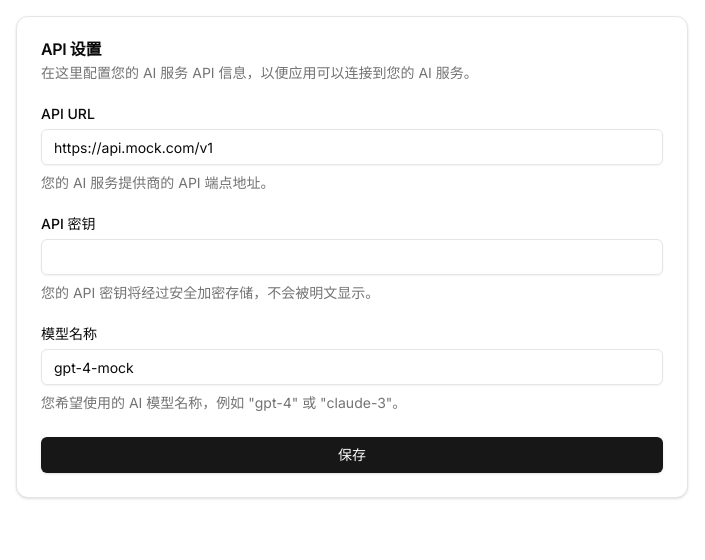
SettingsPage › shows a success message after saving
The width and height of the screenshot is (705, 560).
Replace the text in the field labelled "API URL" with "https://api.test.com/v1" at x=352, y=147, box [41, 129, 663, 165]
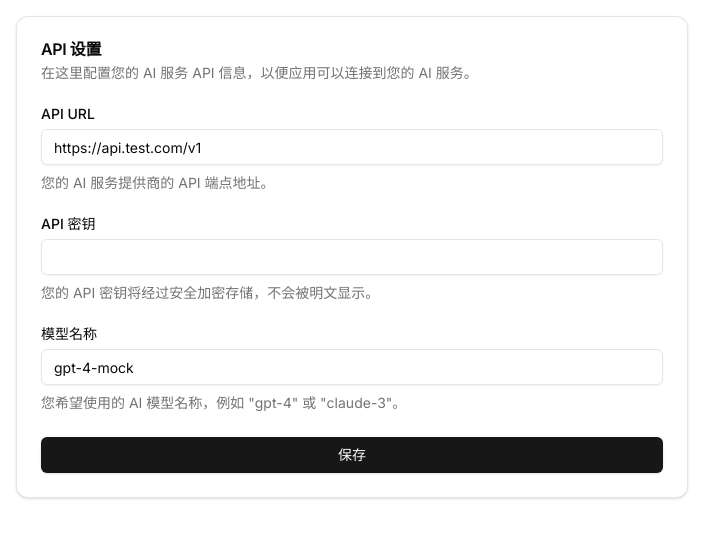
Type "test-api-key" into the password field labelled "API 密钥" at x=352, y=257, box [41, 239, 663, 275]
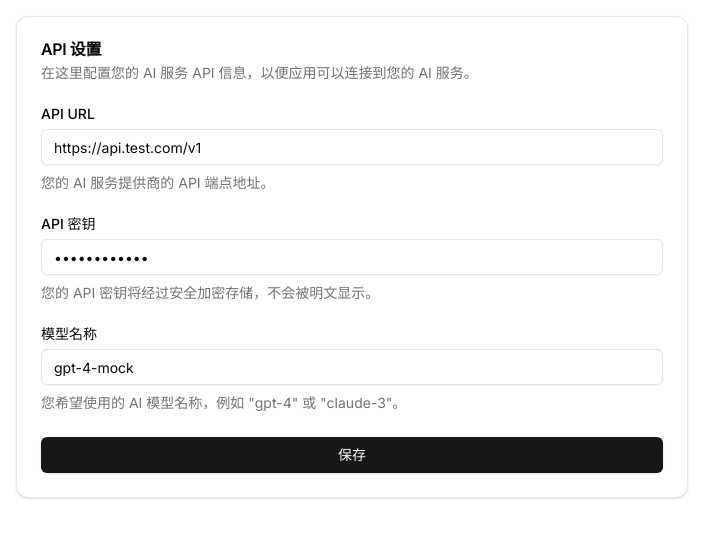
Replace the text in the field labelled "模型名称" with "gpt-4" at x=352, y=367, box [41, 349, 663, 385]
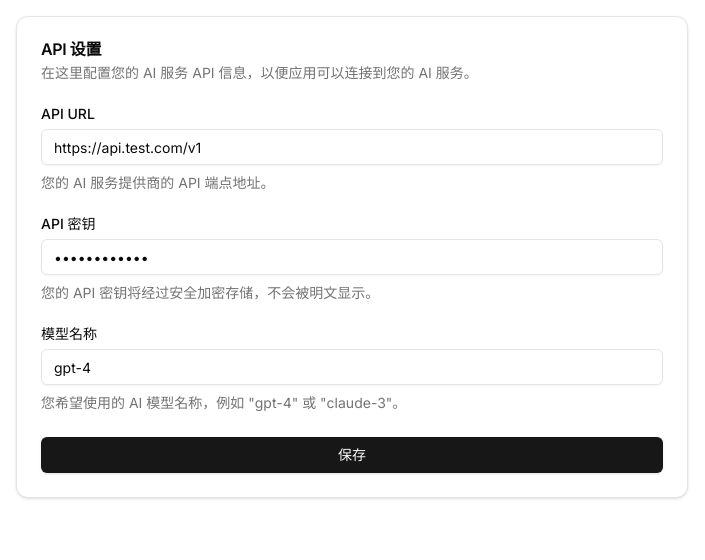
Click the button "保存" at x=352, y=455, box [41, 437, 663, 473]
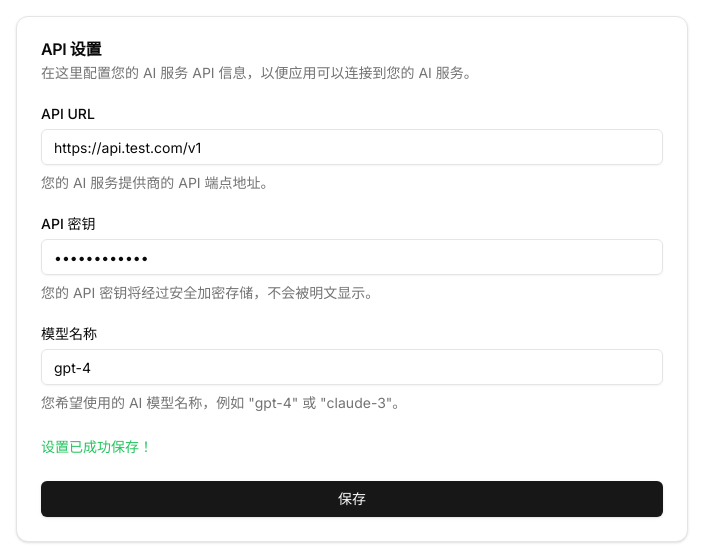
Now the text "设置已成功保存！" is shown, box [41, 438, 153, 455]
